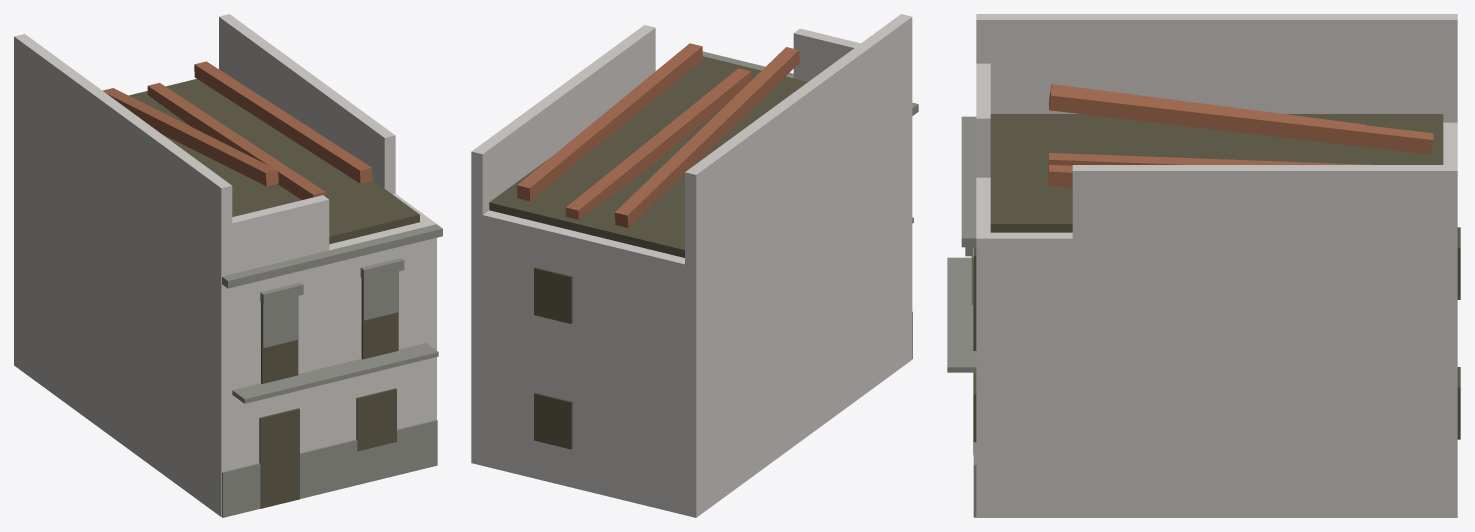
File: SM_TresAlturas_v4_Ruina_LOD1.fbx
3 renders of one model, left to right at view 1: azimuth 30°, elevation 25°; view 2: azimuth 150°, elevation 25°; view 3: azimuth 270°, elevation 25°, orthographic. The views are drawn at different scales.
Visible parts, largest first — view 1: SM_pueblo_valenciano_v14_LOD1; view 2: SM_pueblo_valenciano_v14_LOD1; view 3: SM_pueblo_valenciano_v14_LOD1.
Part boxes in pixels (<box>): SM_pueblo_valenciano_v14_LOD1: <box>14,14,442,517</box>; SM_pueblo_valenciano_v14_LOD1: <box>471,14,918,517</box>; SM_pueblo_valenciano_v14_LOD1: <box>947,14,1460,517</box>.
Size of the model in its own units: 6 by 8.75 by 10.66.
